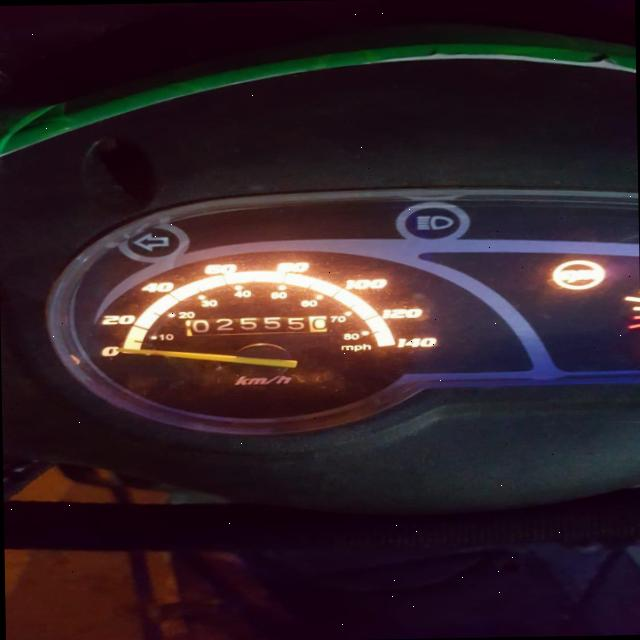odometer: (182, 314, 329, 336)
